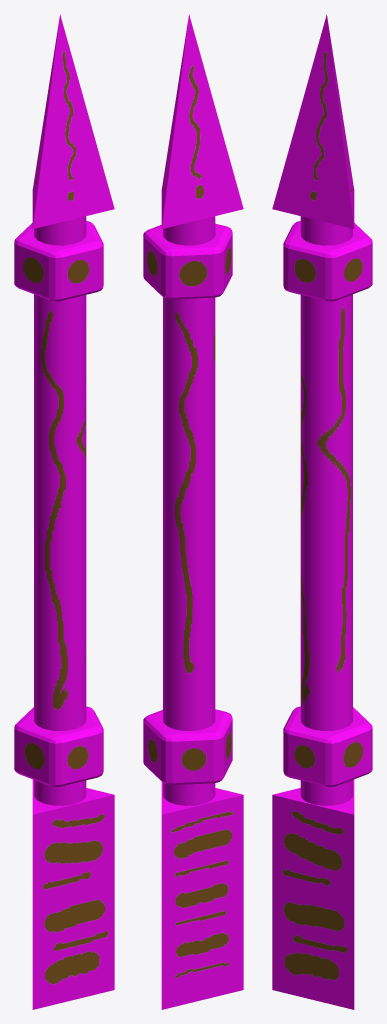
File: stylus.fbx
3 renders of one model, left to right at view 1: azimuth 30°, elevation 25°; view 2: azimuth 150°, elevation 25°; view 3: azimuth 330°, elevation 25°, orthographic.
Parts seen in each view (by area): view 1: stylus.barrel, stylus.cap, stylus.hexagons, stylus.tip; view 2: stylus.barrel, stylus.cap, stylus.hexagons, stylus.tip; view 3: stylus.barrel, stylus.cap, stylus.hexagons, stylus.tip.
Boxes of the visible parts, x1,y1,x2,y2 form: stylus.barrel: (34,216,86,805); stylus.cap: (32,779,114,1009); stylus.hexagons: (14,221,103,786); stylus.tip: (32,14,114,228); stylus.barrel: (163,216,215,805); stylus.cap: (161,782,243,1009); stylus.hexagons: (143,223,232,784); stylus.tip: (161,14,243,228); stylus.barrel: (300,216,352,805); stylus.cap: (272,779,354,1009); stylus.hexagons: (283,221,372,786); stylus.tip: (272,14,354,228).
Size of the model in its own units: 12.68 by 144 by 12.69.
Materials: 1 (1 with a texture image).
